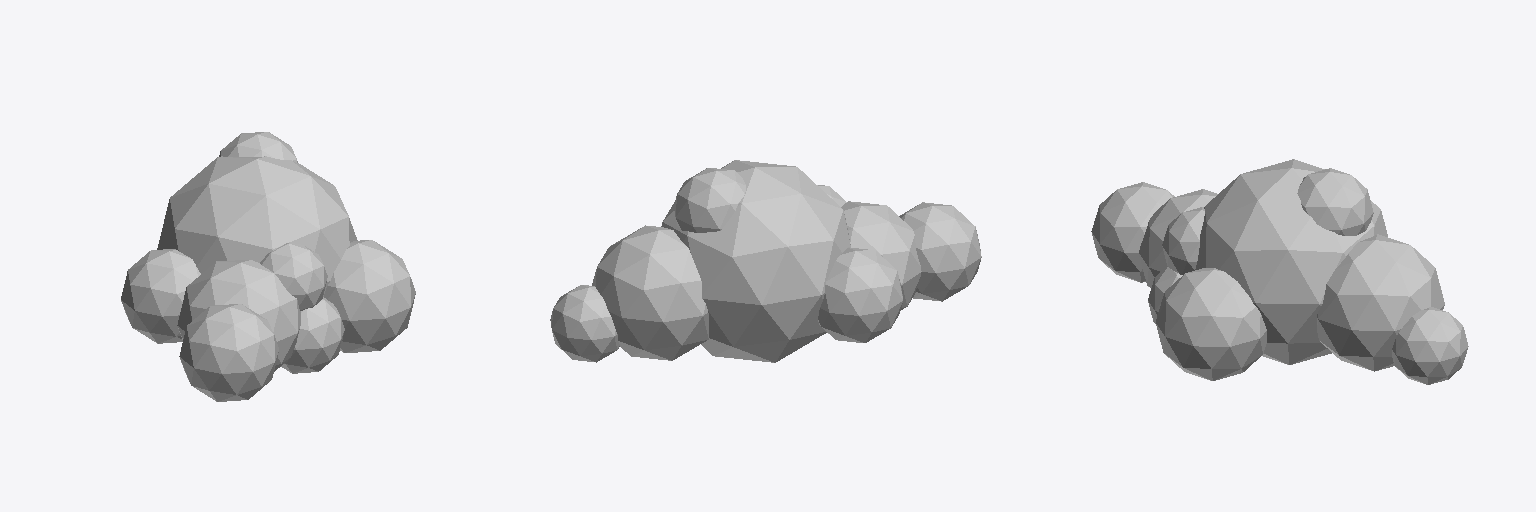
Rendered from cloud5.obj.
3 renders of one model, left to right at view 1: azimuth 30°, elevation 25°; view 2: azimuth 150°, elevation 25°; view 3: azimuth 270°, elevation 25°, orthographic.
Visible parts, largest first — view 1: Icosphere.002_Icosphere.001; view 2: Icosphere.002_Icosphere.001; view 3: Icosphere.002_Icosphere.001.
Part boxes in pixels (x1,y1,x2,y2): Icosphere.002_Icosphere.001: (121, 132, 415, 401); Icosphere.002_Icosphere.001: (550, 160, 981, 362); Icosphere.002_Icosphere.001: (1091, 159, 1468, 384).
Size of the model in its own units: 2.44 by 1.64 by 2.9.